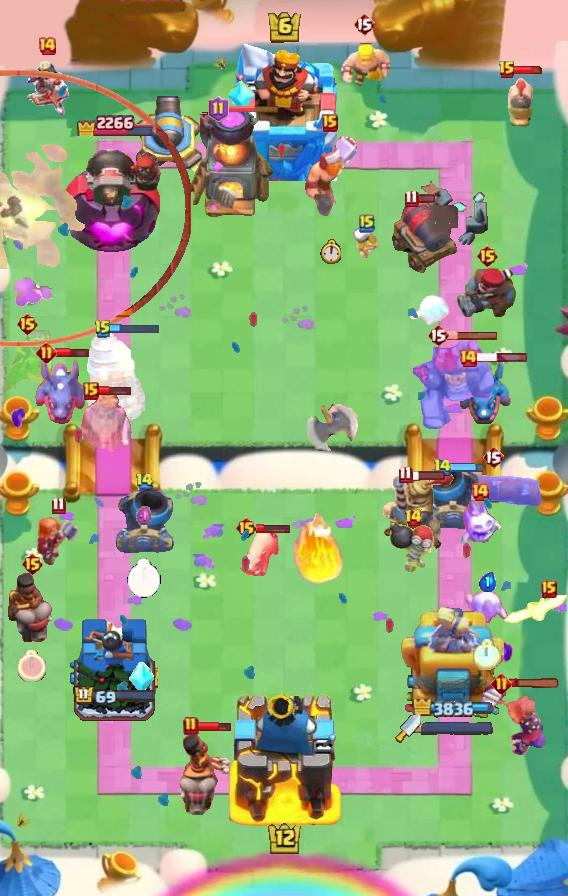axe: (305, 387, 359, 451)
bar: (109, 323, 161, 335), (509, 678, 561, 689), (476, 352, 528, 363), (447, 330, 499, 341), (226, 104, 280, 113), (196, 720, 232, 733), (55, 346, 90, 359), (410, 469, 446, 481), (256, 522, 291, 534), (449, 462, 485, 473), (97, 385, 132, 396), (513, 65, 545, 75), (417, 193, 436, 204)
bar-level: (21, 552, 44, 576), (235, 516, 258, 540), (16, 312, 39, 336), (476, 244, 499, 268), (208, 96, 229, 122), (482, 445, 504, 469), (427, 323, 449, 347), (353, 12, 375, 36), (491, 673, 512, 694), (36, 342, 57, 363), (470, 482, 490, 502), (458, 348, 478, 368), (37, 36, 57, 56), (404, 508, 423, 528), (135, 472, 154, 491), (433, 458, 452, 477), (94, 319, 112, 339), (498, 60, 516, 80), (183, 716, 199, 736), (359, 213, 375, 233), (541, 580, 557, 598), (83, 382, 99, 400), (322, 114, 338, 132), (51, 496, 66, 515), (398, 465, 413, 484), (404, 189, 419, 208)
barbarian: (335, 41, 393, 93)
bat-evolution: (502, 593, 568, 625)
bomber: (387, 519, 439, 573)
cannoneer-tower: (62, 138, 166, 256)
clock: (127, 558, 161, 598), (18, 650, 46, 682), (473, 639, 501, 670), (320, 239, 341, 264)
dagger-duchess-tower: (399, 607, 507, 731)
dagger-duchess-tower-bar: (421, 721, 493, 735)
electro-dragon: (457, 354, 513, 428), (33, 354, 87, 426)
elixir: (136, 505, 153, 527), (479, 572, 496, 592)
hog: (237, 524, 281, 580)
hunter: (455, 265, 519, 319)
ice-spirit: (408, 293, 454, 329)
ice-spirit-evolution: (459, 497, 501, 547), (462, 588, 512, 626)
ice-spirit-evolution-symbol: (227, 78, 255, 112), (128, 662, 154, 694)
king-tower: (227, 688, 342, 826), (231, 43, 337, 181)
lumberjack: (302, 133, 358, 219)
mortar: (114, 489, 174, 553), (423, 465, 483, 529)
princess: (25, 61, 69, 121)
queen-tower: (70, 616, 158, 731)
ram-rider: (172, 731, 234, 825), (6, 570, 58, 644)
royal-ghost: (77, 388, 133, 454)
royal-hog: (505, 72, 535, 128)
skeleton: (352, 226, 382, 258)
the-log: (442, 470, 544, 506)
tower-bar: (74, 109, 154, 136), (73, 685, 156, 707), (412, 699, 494, 717)
valkyrie: (35, 517, 81, 567)
valkyrie-evolution: (480, 683, 549, 757)
